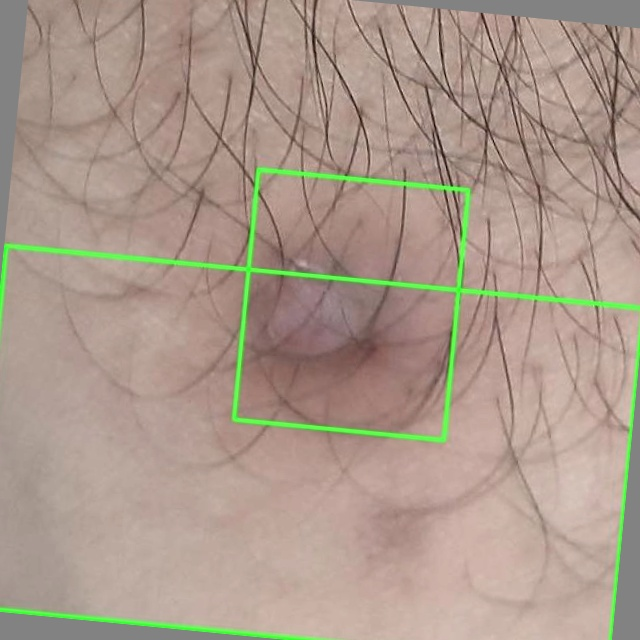Eczema: (0, 245, 639, 639), (234, 169, 468, 439)
